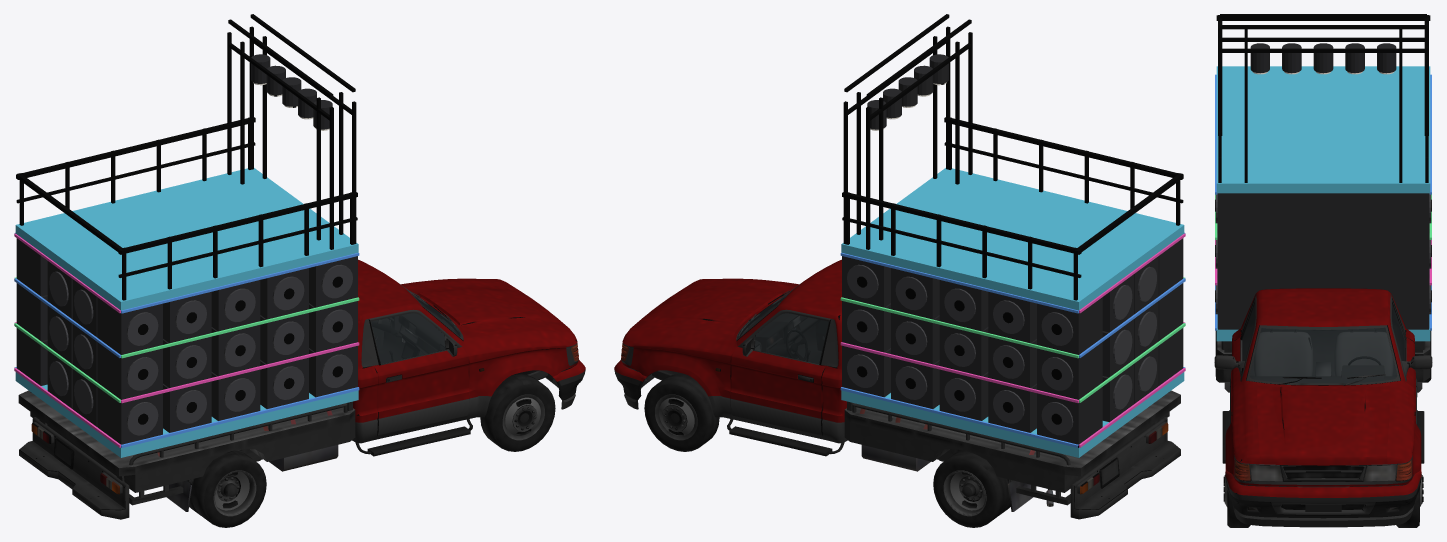
Rendered from folia.glb.
The picture shows the model from 3 angles, left to right: view 1: azimuth 30°, elevation 25°; view 2: azimuth 150°, elevation 25°; view 3: azimuth 270°, elevation 25°; orthographic projection.
Visible parts, largest first — view 1: body, trunk, hood, bumper_rear, wheel_rr_tire, wheel_fr_tire, glass_door_fr, wheel_fr_rim, wheel_rr_rim, bumper_front; view 2: body, trunk, hood, bumper_rear, wheel_rl_tire, wheel_fl_tire, glass_door_fl, wheel_fl_rim, wheel_rl_rim, bumper_front; view 3: body, trunk, hood, bumper_front, glass_windshield, glass_door_fl, glass_door_fr, wheel_fr_tire, wheel_fl_tire.
Part boxes in pixels (<box>): body: <box>14,14,578,511</box>; trunk: <box>16,238,357,444</box>; hood: <box>405,281,568,335</box>; bumper_rear: <box>19,417,129,519</box>; wheel_rr_tire: <box>189,450,266,527</box>; wheel_fr_tire: <box>480,374,555,451</box>; glass_door_fr: <box>371,313,445,363</box>; wheel_fr_rim: <box>502,394,544,440</box>; wheel_rr_rim: <box>214,471,255,515</box>; bumper_front: <box>545,360,585,409</box>; body: <box>621,14,1185,511</box>; trunk: <box>842,238,1183,444</box>; hood: <box>631,281,795,335</box>; bumper_rear: <box>1070,417,1180,519</box>; wheel_rl_tire: <box>933,450,1010,527</box>; wheel_fl_tire: <box>644,374,719,451</box>; glass_door_fl: <box>754,313,828,363</box>; wheel_fl_rim: <box>655,394,697,440</box>; wheel_rl_rim: <box>944,471,985,515</box>; bumper_front: <box>614,360,654,409</box>; body: <box>1214,14,1432,487</box>; trunk: <box>1215,193,1431,329</box>; hood: <box>1257,385,1389,465</box>; bumper_front: <box>1225,469,1421,527</box>; glass_windshield: <box>1250,328,1396,382</box>; glass_door_fl: <box>1392,303,1405,360</box>; glass_door_fr: <box>1241,303,1254,360</box>; wheel_fr_tire: <box>1227,474,1250,527</box>; wheel_fl_tire: <box>1396,474,1419,527</box>.
Bounding box in the file's own units: 5.27 × 4.18 × 2.
Materials: 6 (5 with a texture image).
